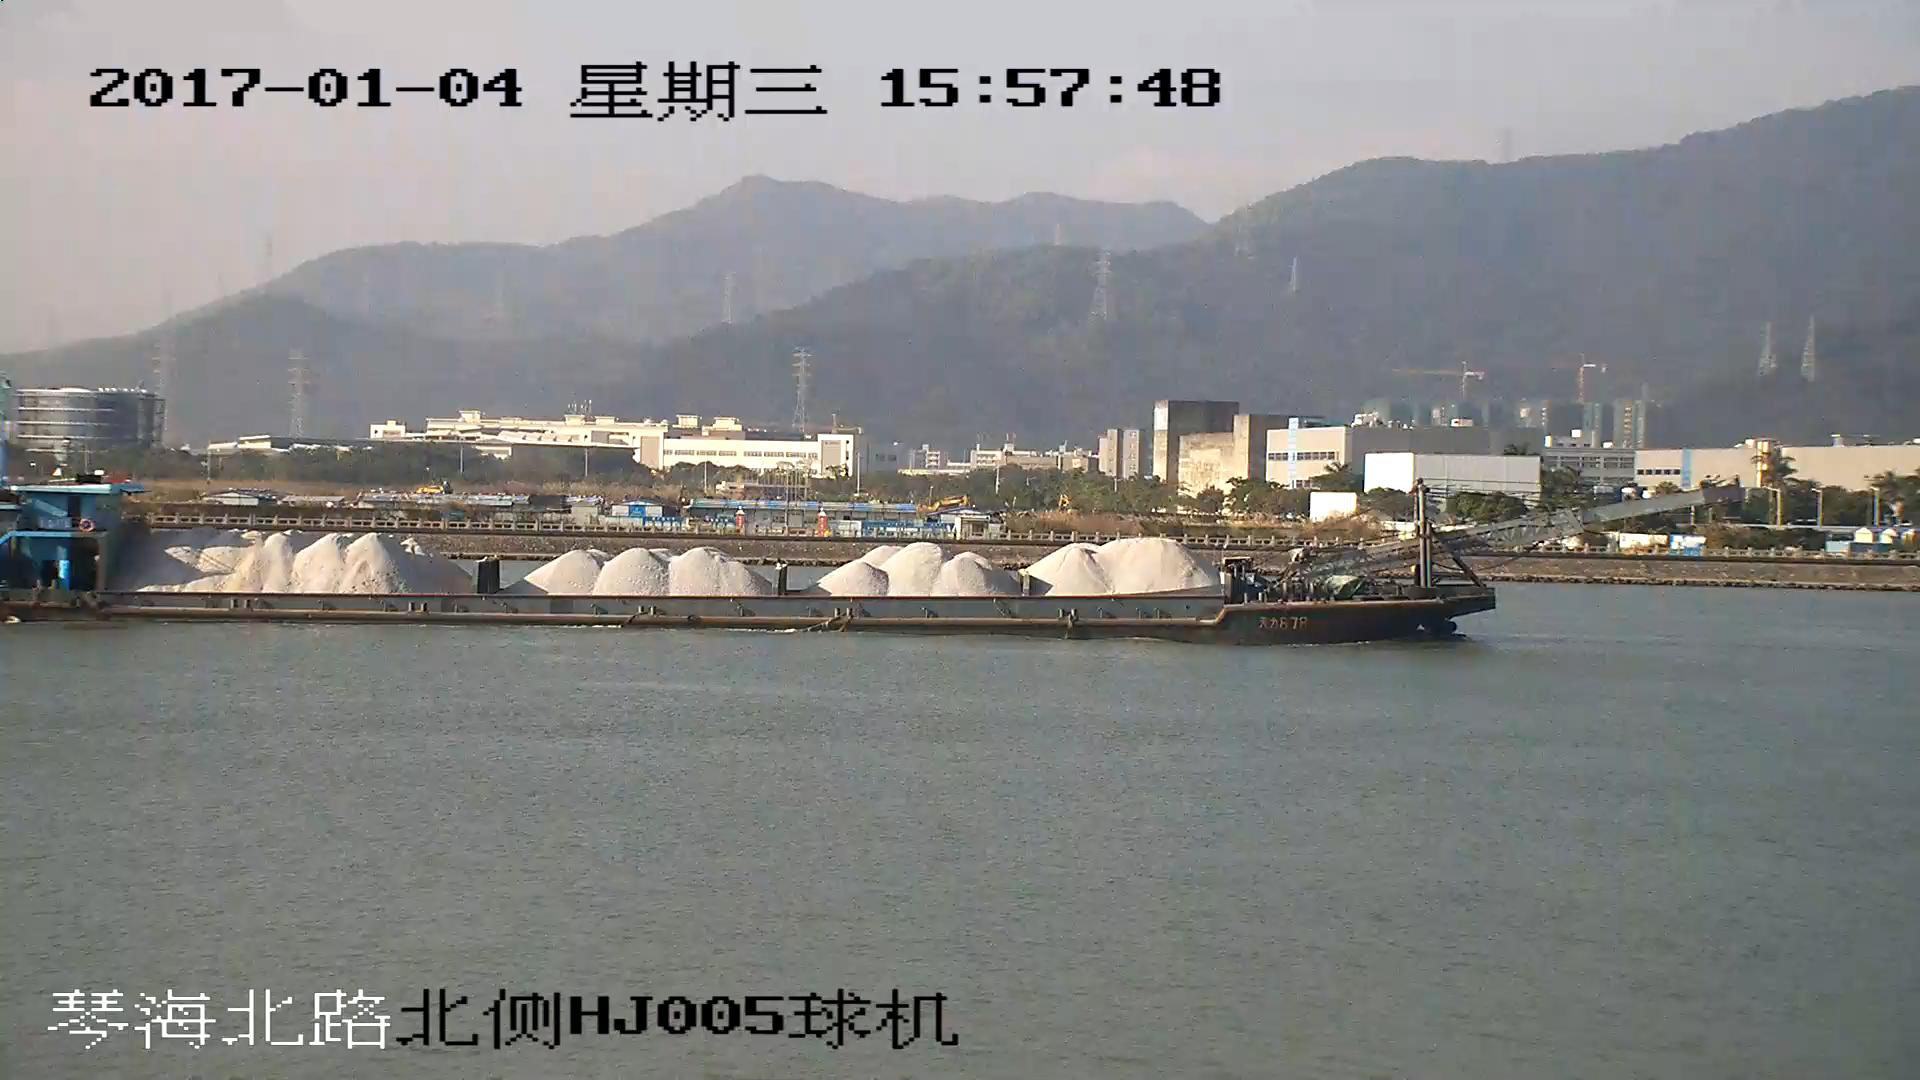ore carrier: (1, 483, 1717, 629)
